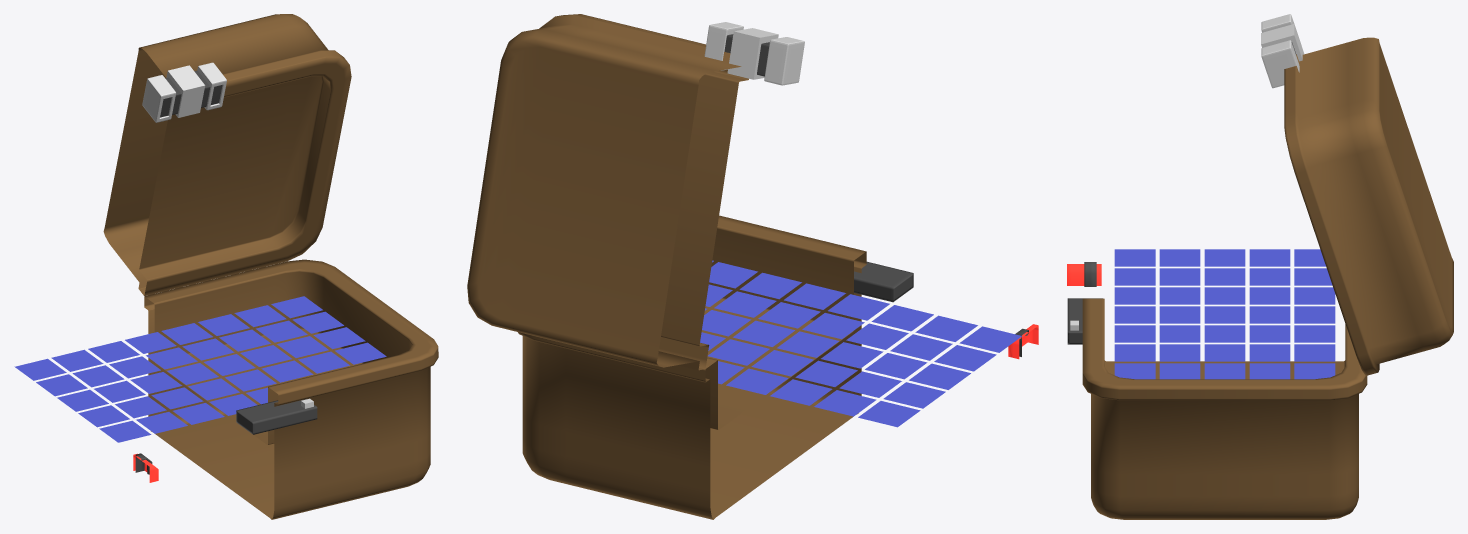
Rendered from TackleBox_008.glb.
3 views of the same model, side by side, from view 1: azimuth 30°, elevation 25°; view 2: azimuth 150°, elevation 25°; view 3: azimuth 270°, elevation 25° (orthographic). The views are drawn at different scales.
Parts seen in each view (by area): view 1: Top, Base, singleSpace.001, Top_Lock, Base_Lock; view 2: Top, Base, singleSpace.001, Top_Lock, Base_Lock; view 3: Base, Top, singleSpace.001, Top_Lock, Base_Lock, Cube.001.
Part boxes in pixels (bbox=[...]): Top: bbox=[103, 14, 351, 295]; Base: bbox=[144, 259, 438, 519]; singleSpace.001: bbox=[14, 296, 386, 442]; Top_Lock: bbox=[142, 62, 226, 122]; Base_Lock: bbox=[236, 399, 317, 434]; Top: bbox=[467, 14, 748, 370]; Base: bbox=[518, 215, 866, 519]; singleSpace.001: bbox=[700, 260, 1021, 427]; Top_Lock: bbox=[704, 22, 804, 85]; Base_Lock: bbox=[854, 261, 913, 302]; Base: bbox=[1082, 298, 1367, 519]; Top: bbox=[1284, 37, 1453, 375]; singleSpace.001: bbox=[1114, 249, 1335, 379]; Top_Lock: bbox=[1261, 14, 1304, 88]; Base_Lock: bbox=[1067, 298, 1102, 344]; Cube.001: bbox=[1067, 264, 1101, 285].
Bounding box in the file's own units: 4.78 × 5.51 × 4.73.
